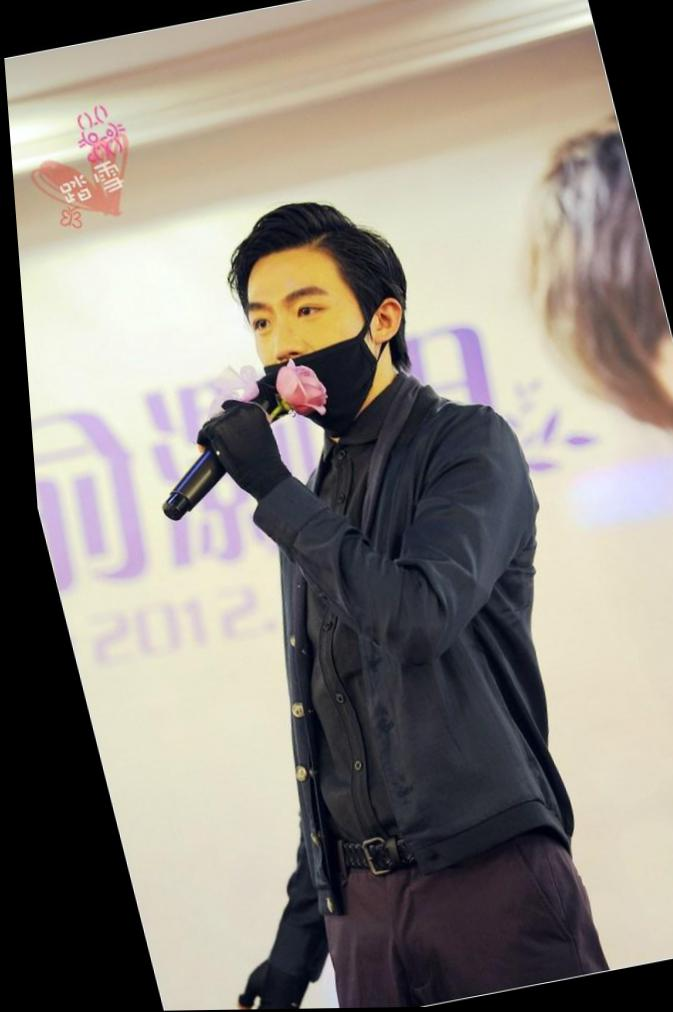WRONG: (228, 263, 400, 427)
